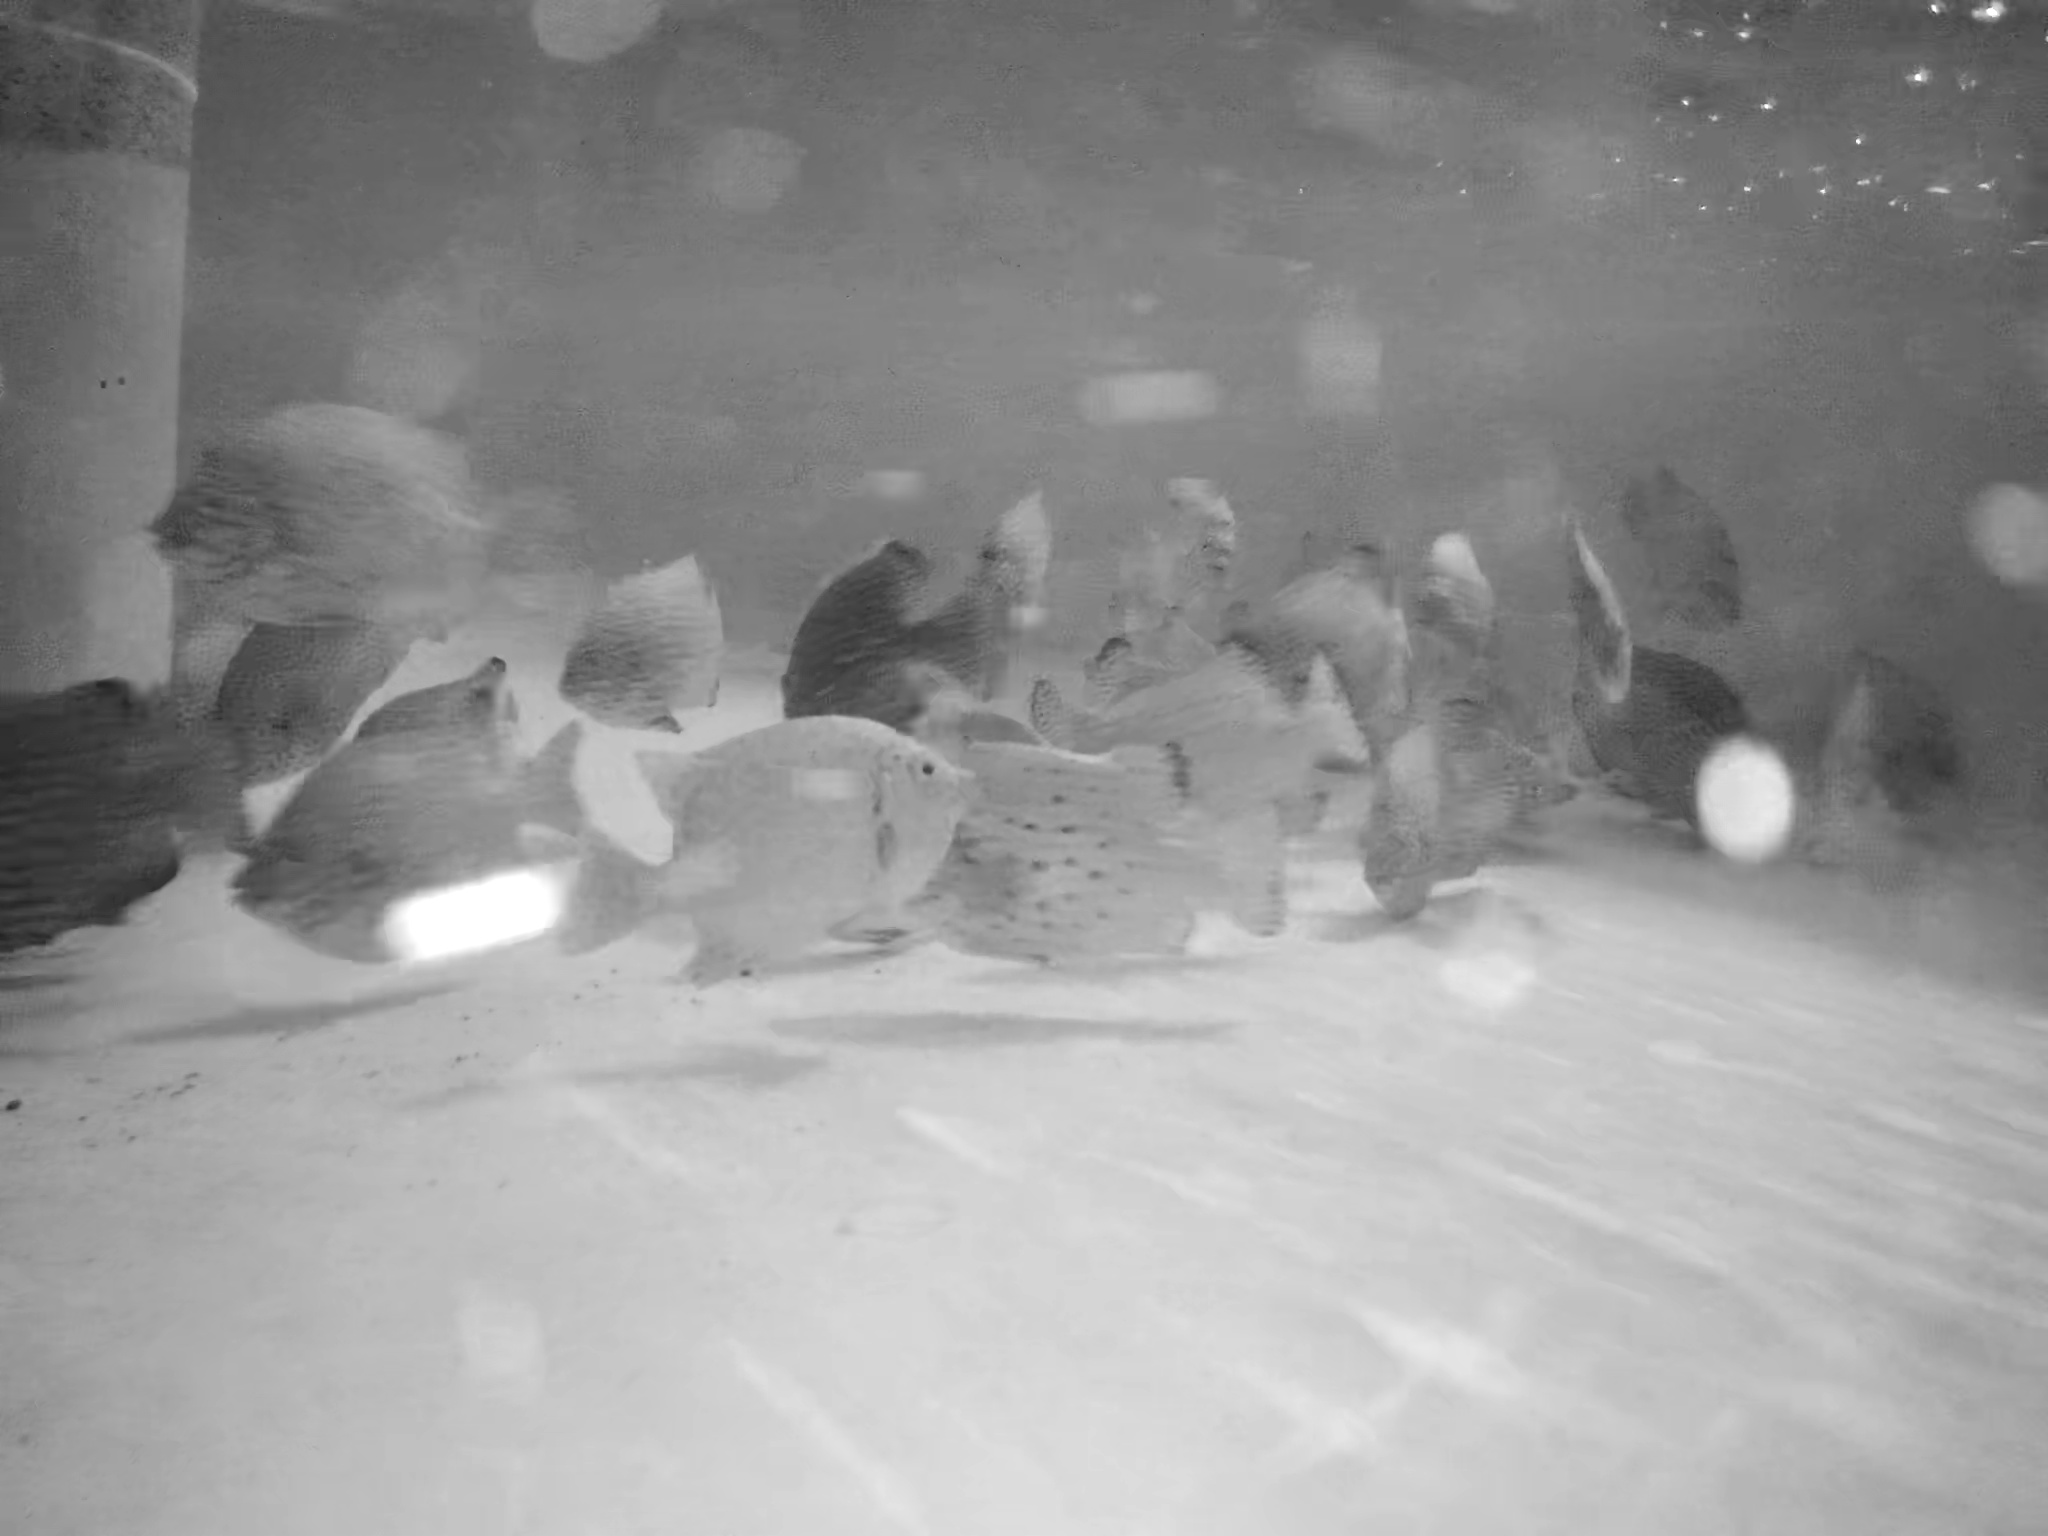fish: (258, 674, 650, 978), (164, 369, 581, 637), (616, 736, 993, 957), (11, 678, 252, 963), (964, 760, 1314, 952), (784, 529, 1085, 728), (1216, 524, 1495, 713), (179, 603, 466, 773), (1066, 674, 1366, 833), (1800, 645, 1983, 865), (1579, 665, 1771, 863), (1353, 713, 1551, 887), (566, 560, 743, 742), (1118, 490, 1276, 670), (1548, 510, 1671, 707), (1648, 482, 1780, 641)
